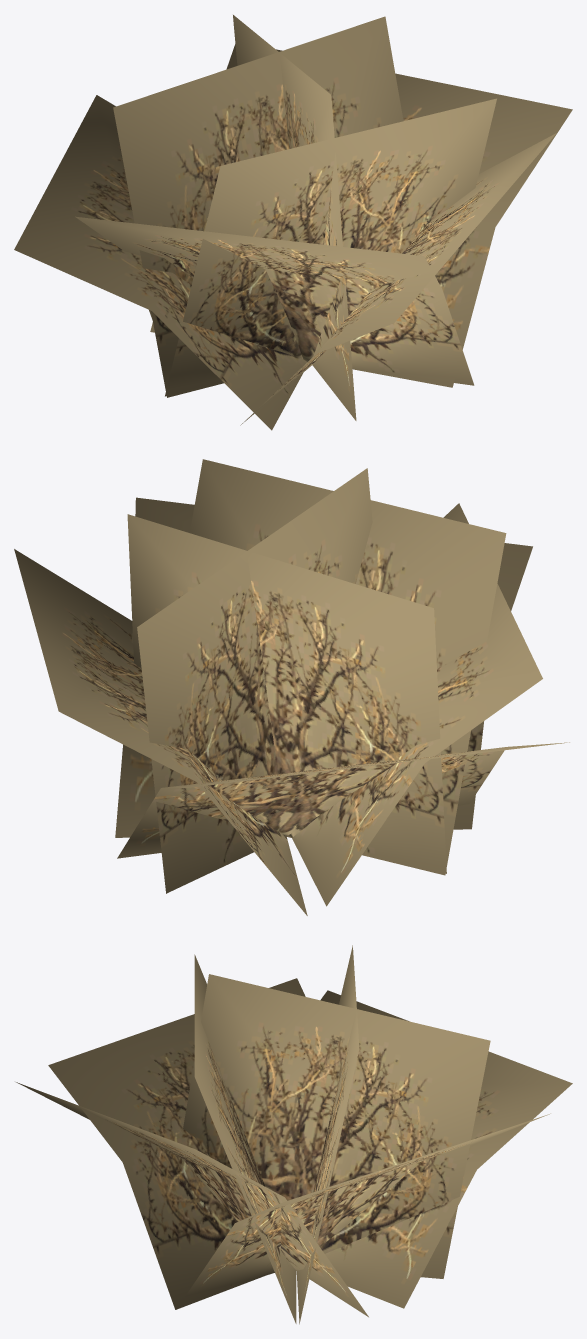
File: shrb_dsrt_dead_l0.fbx
3 renders of one model, top to bottom at view 1: azimuth 30°, elevation 25°; view 2: azimuth 150°, elevation 25°; view 3: azimuth 270°, elevation 25°, orthographic. The views are drawn at different scales.
Visible parts, largest first — view 1: mesh_node; view 2: mesh_node; view 3: mesh_node.
Part boxes in pixels (box(x1,y1,x2,y2)): mesh_node: box(14, 15, 572, 430); mesh_node: box(14, 459, 569, 915); mesh_node: box(16, 945, 572, 1324).
Size of the model in its own units: 2.54 by 1.4 by 2.53.
